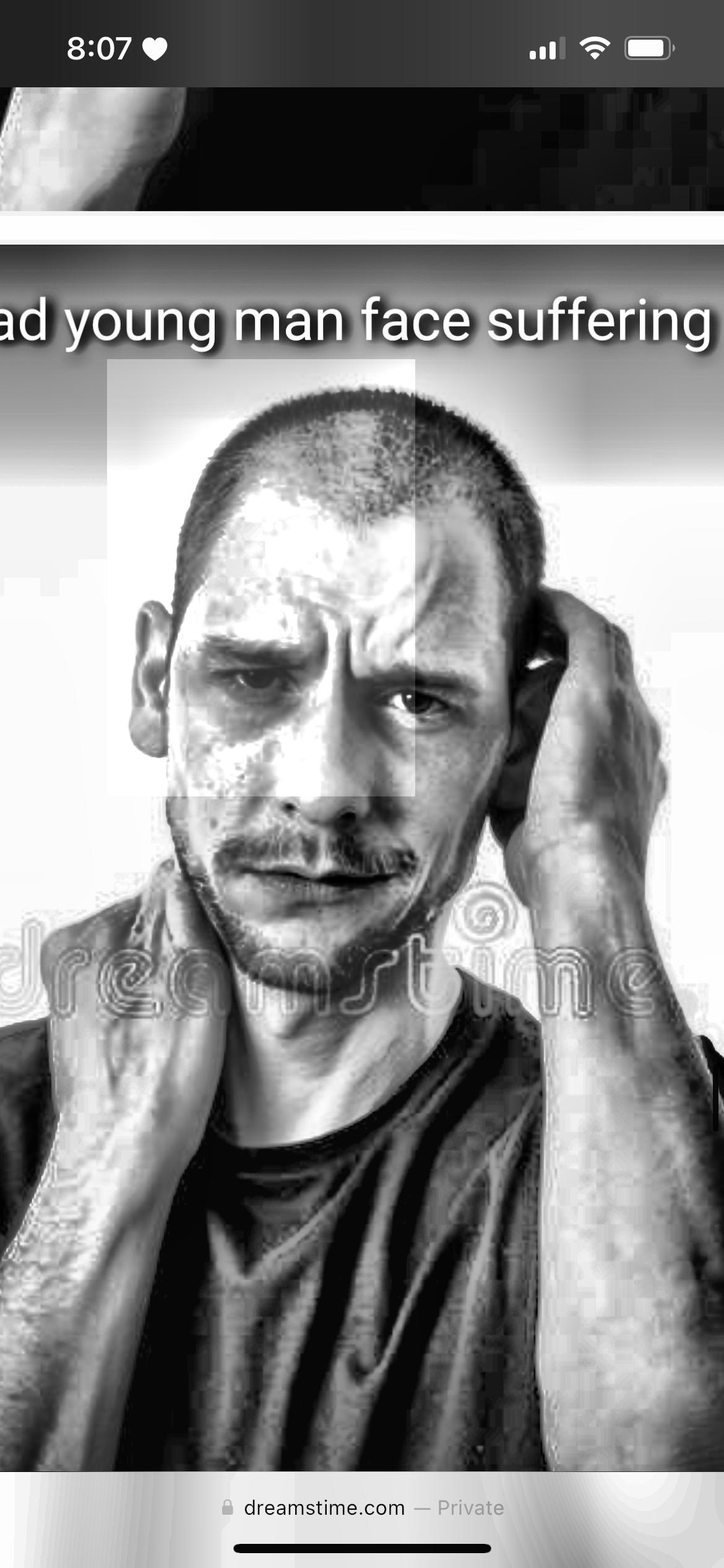sad: (132, 444, 514, 985)
